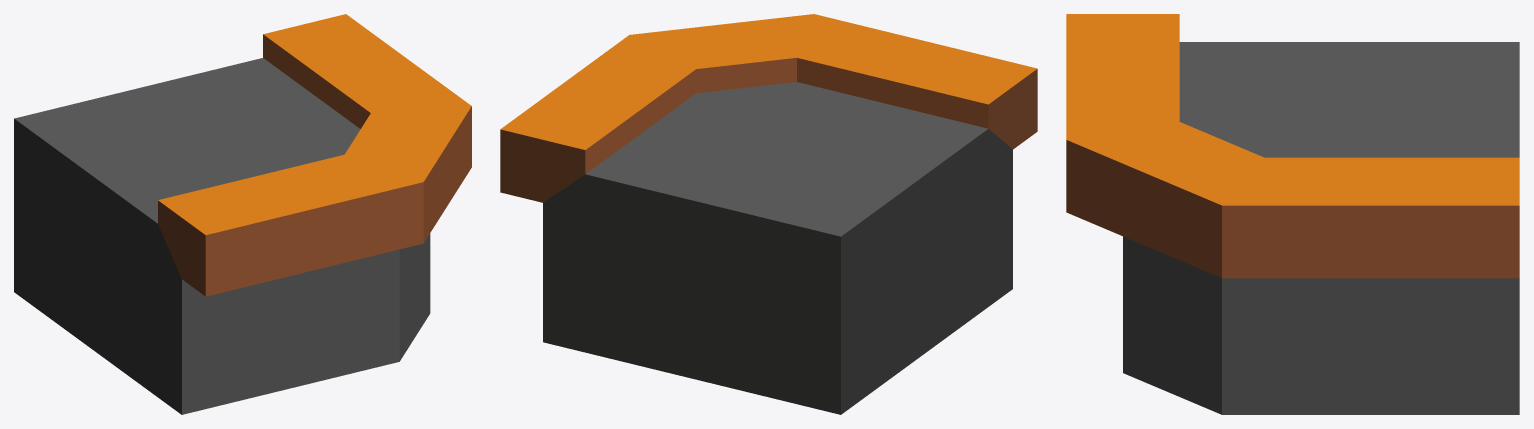
File: COSMIC_F_Perimeter_1U_90_Outer_2.fbx
The picture shows the model from 3 angles, left to right: view 1: azimuth 30°, elevation 25°; view 2: azimuth 150°, elevation 25°; view 3: azimuth 270°, elevation 25°; orthographic projection. The views are drawn at different scales.
Visible parts, largest first — view 1: COSMIC_F_Perimeter_1U_90_Outer_2; view 2: COSMIC_F_Perimeter_1U_90_Outer_2; view 3: COSMIC_F_Perimeter_1U_90_Outer_2.
Boxes of the visible parts, <box> form: COSMIC_F_Perimeter_1U_90_Outer_2: <box>14,14,471,414</box>; COSMIC_F_Perimeter_1U_90_Outer_2: <box>500,14,1037,414</box>; COSMIC_F_Perimeter_1U_90_Outer_2: <box>1066,14,1519,414</box>.
Size of the model in its own units: 0.5 by 0.2839 by 0.5.
